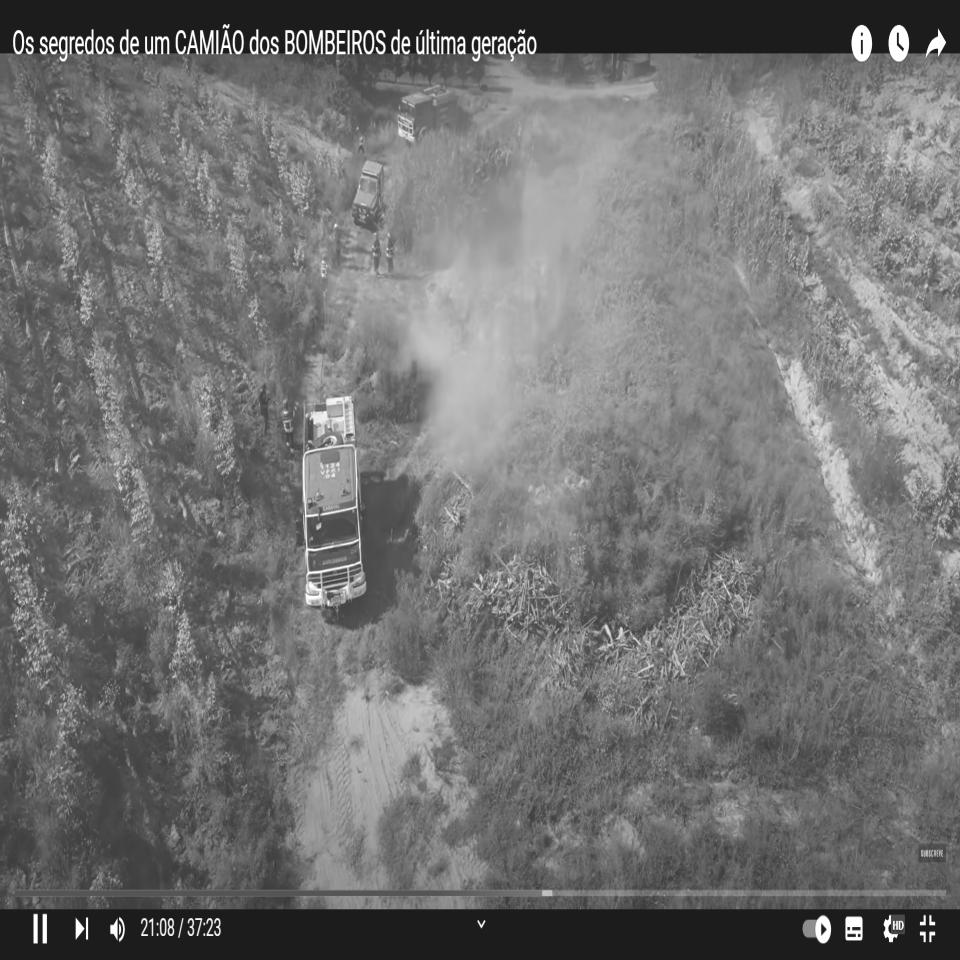bombeiro: (293, 394, 372, 611), (397, 81, 459, 142), (350, 160, 384, 228)
